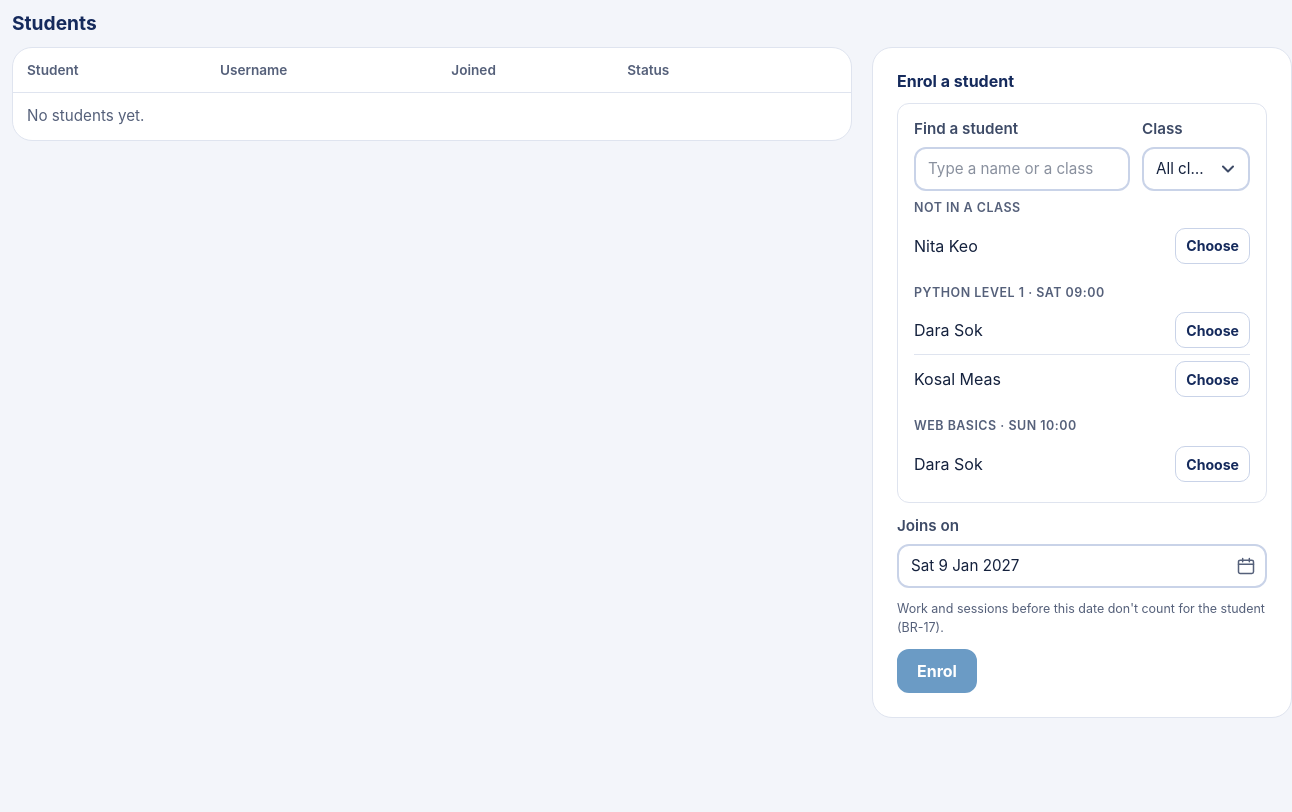
Enrol a student › choosing one shows them, with Change, and sends their id with the join date
Type "nit" into the search field labelled "Find a student" at [1022, 169], box [914,147,1130,191]
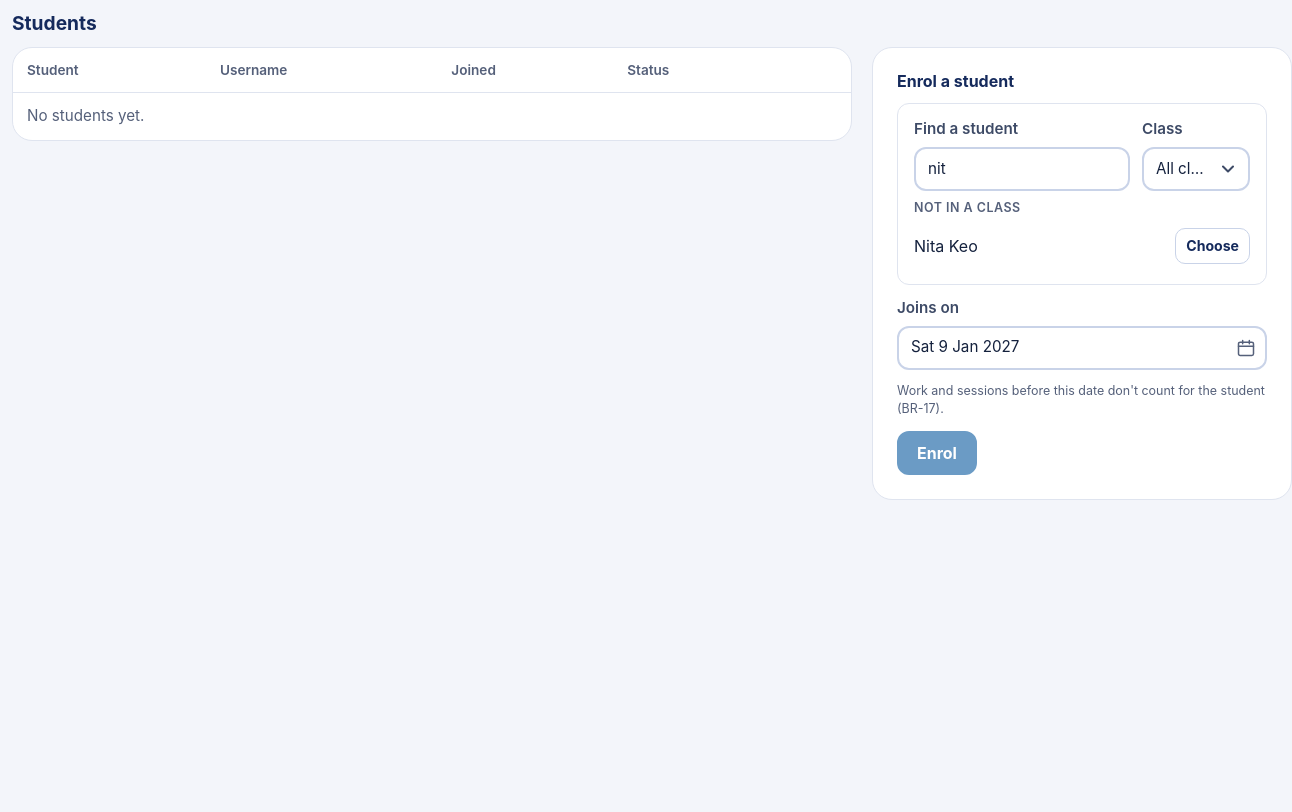
Press Enter in the search field labelled "Find a student", box [914,147,1130,191]
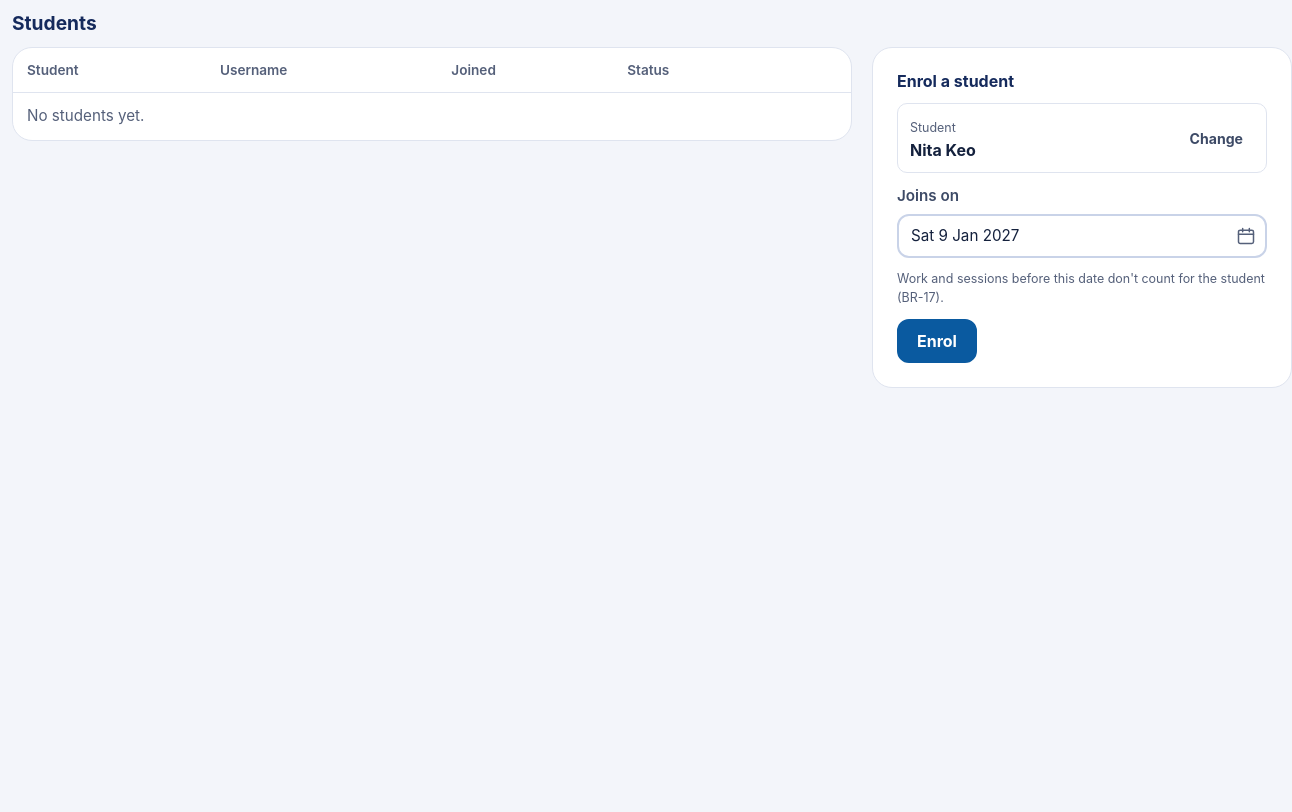
expect the label labelled "Find a student" is gone: met
expect the element with test id "chosen-student" shows "Nita Keo": met, box [910,140,976,160]
Click the button "Enrol" at [937, 342], box [897,320,977,364]
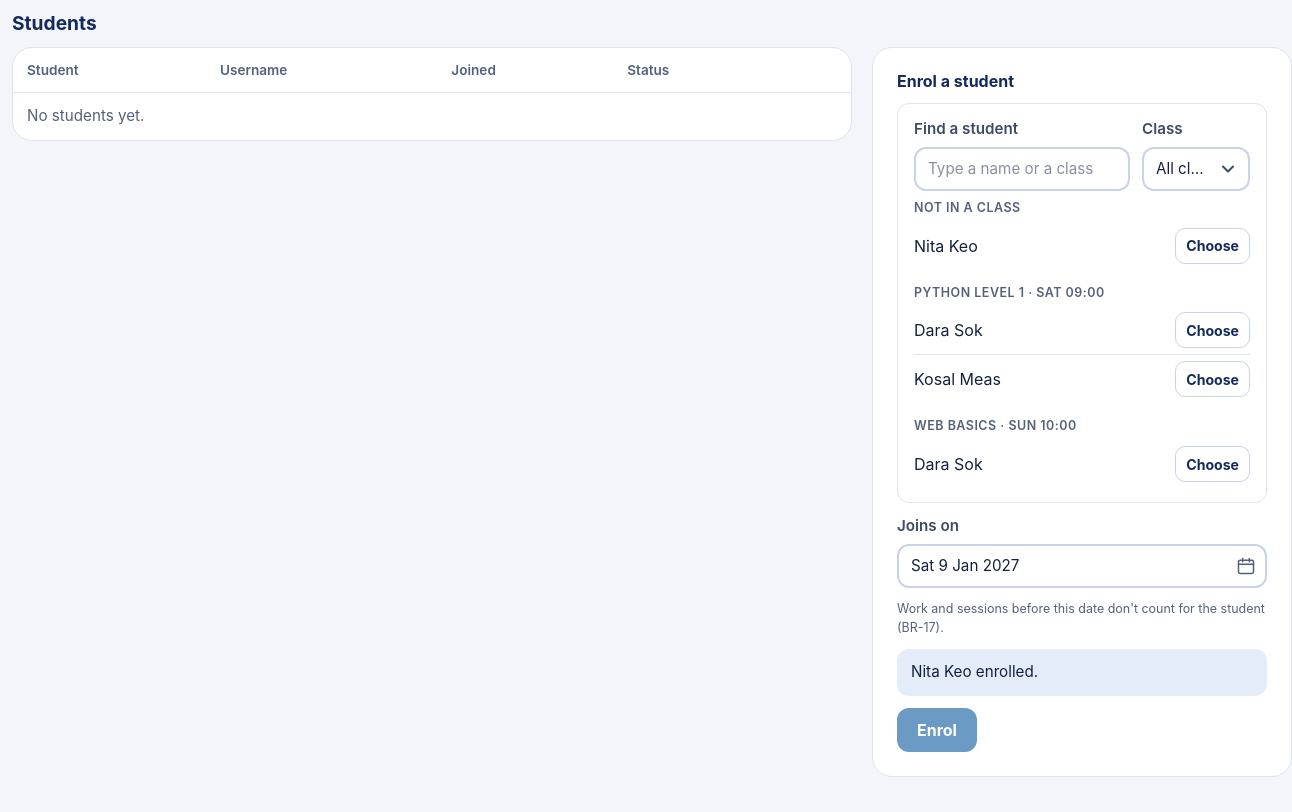
expect the message reads "Nita Keo enrolled.": met, box [911,662,1038,681]
